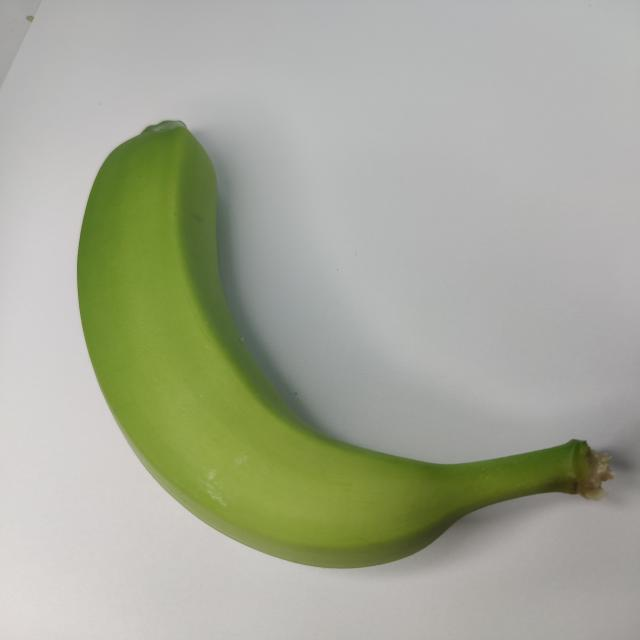raw: (53, 89, 629, 598)
